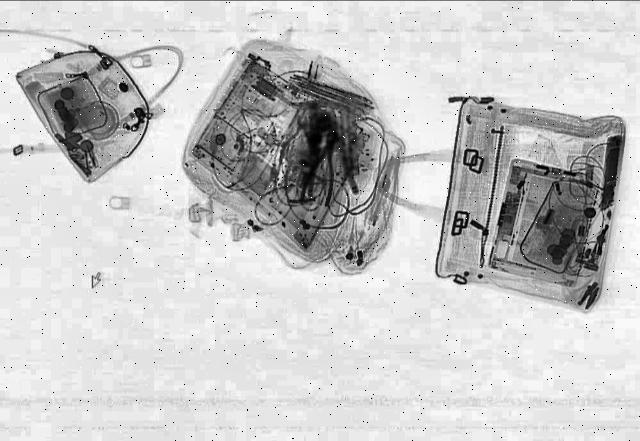Pliers: (294, 132, 350, 206), (278, 117, 320, 168)
